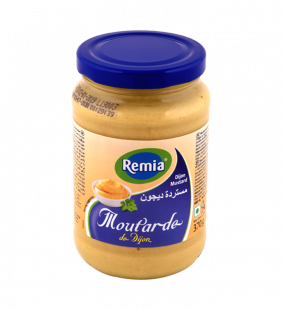REMIA: (71, 29, 211, 280)
